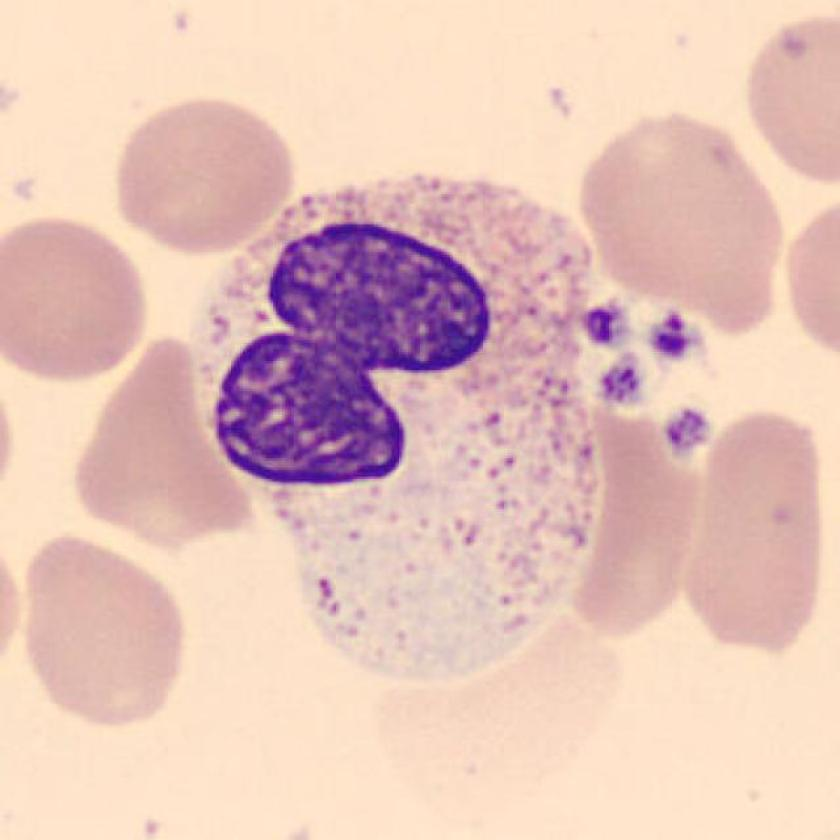neutrophil: (181, 172, 601, 686)
